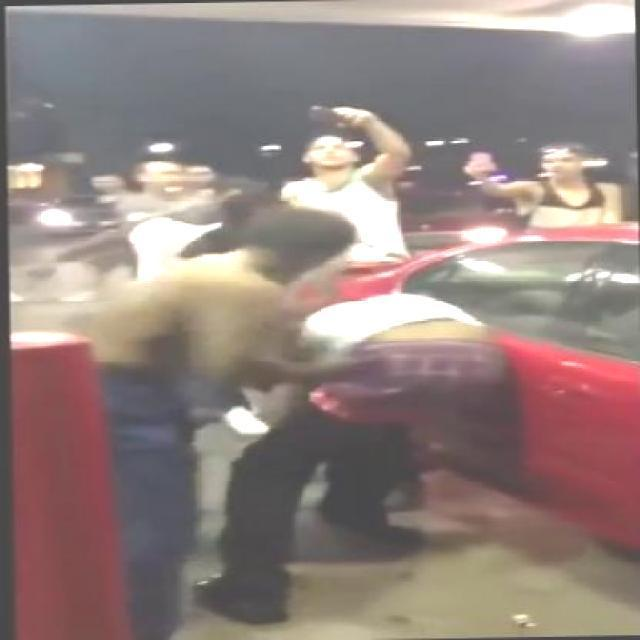fight: (194, 202, 514, 627)
